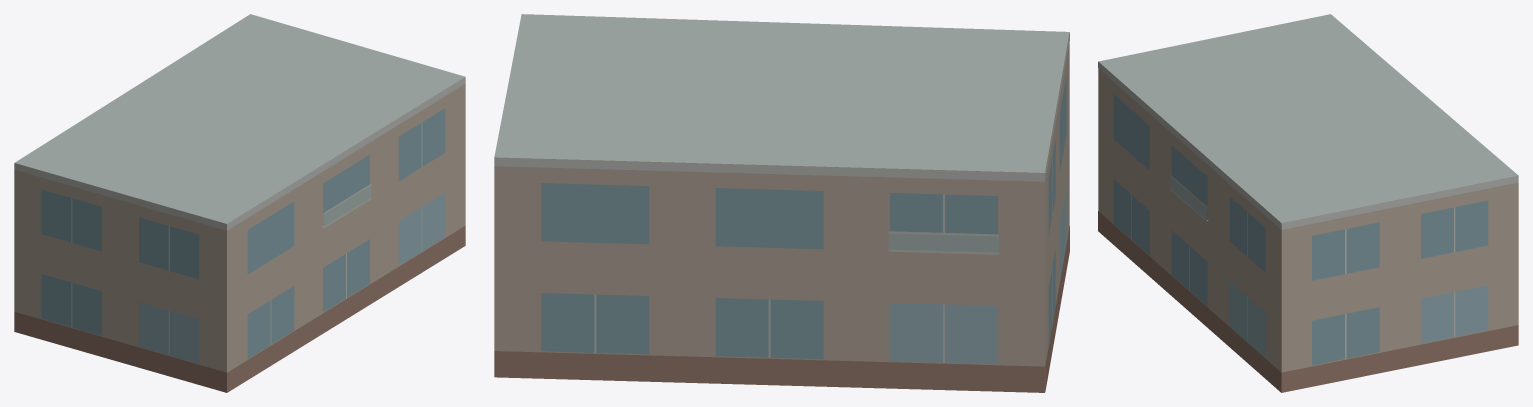
Rendered from survey-upis-32700492.glb.
The picture shows the model from 3 angles, left to right: view 1: azimuth 30°, elevation 25°; view 2: azimuth 150°, elevation 25°; view 3: azimuth 270°, elevation 25°; orthographic projection. The views are drawn at different scales.
Parts seen in each view (by area): view 1: survey-upis-32700492.tmp; view 2: survey-upis-32700492.tmp; view 3: survey-upis-32700492.tmp.
Part boxes in pixels (left/top/right/bottom): survey-upis-32700492.tmp: left=14, top=14, right=465, bottom=392; survey-upis-32700492.tmp: left=494, top=14, right=1069, bottom=392; survey-upis-32700492.tmp: left=1098, top=14, right=1518, bottom=392.
Size of the model in its own units: 16.13 by 6.1 by 13.71.
